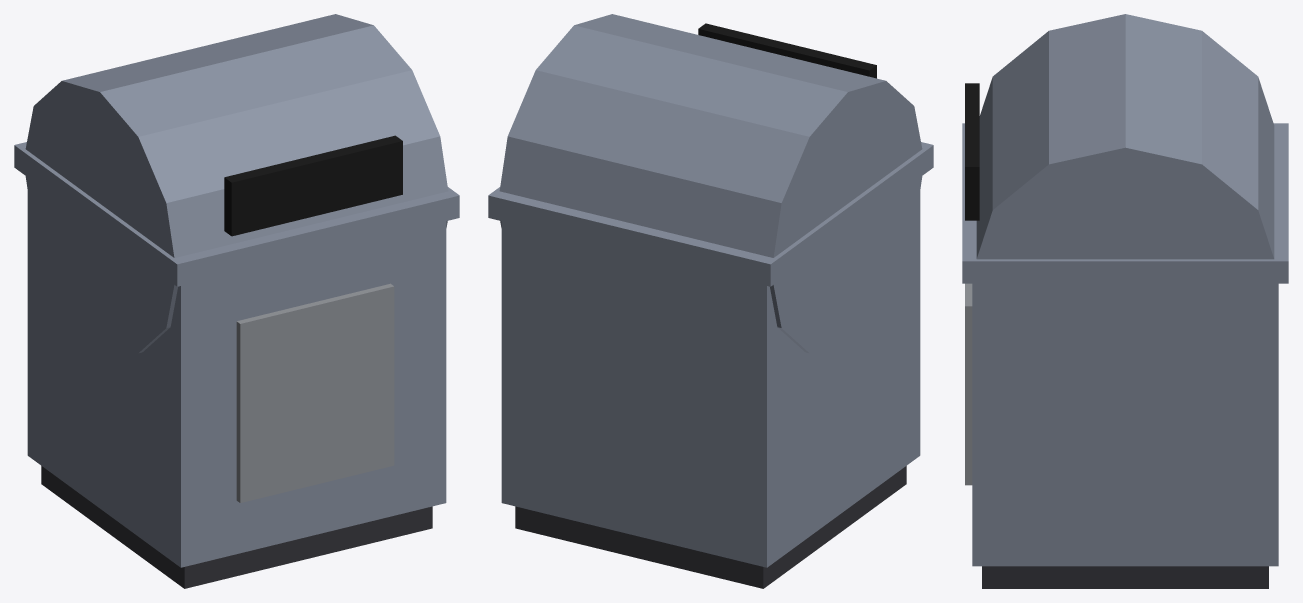
File: objet_poubelle_capot.glb
3 views of the same model, side by side, from view 1: azimuth 30°, elevation 25°; view 2: azimuth 150°, elevation 25°; view 3: azimuth 270°, elevation 25° (orthographic).
Visible parts, largest first — view 1: objet_poubelle_capot; view 2: objet_poubelle_capot; view 3: objet_poubelle_capot.
Part boxes in pixels (<box>): objet_poubelle_capot: <box>14,14,459,588</box>; objet_poubelle_capot: <box>488,14,933,588</box>; objet_poubelle_capot: <box>962,14,1288,588</box>.
Bounding box in the file's own units: 0.66 × 0.999 × 0.66.
